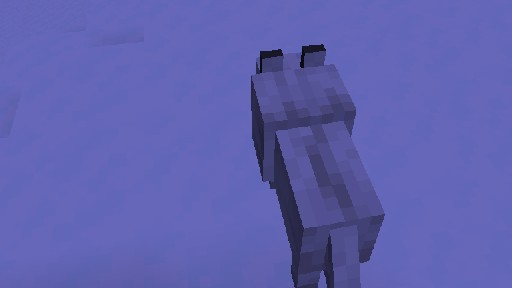wolf: (250, 43, 385, 288)
